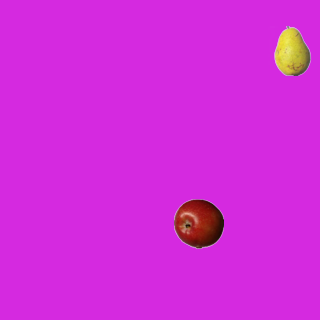Apple Braeburn: (173, 198, 223, 248)
Pear Monster: (267, 25, 317, 75)
